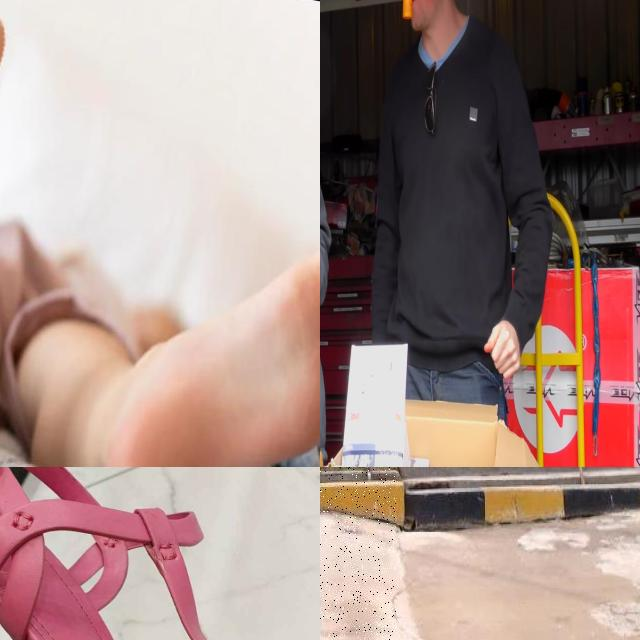Barefoots: (97, 184, 320, 467)
Sandals: (0, 467, 320, 640)
face_nomask: (408, 0, 438, 30)
hand_noglove: (484, 321, 521, 380)
person: (320, 467, 396, 640)
